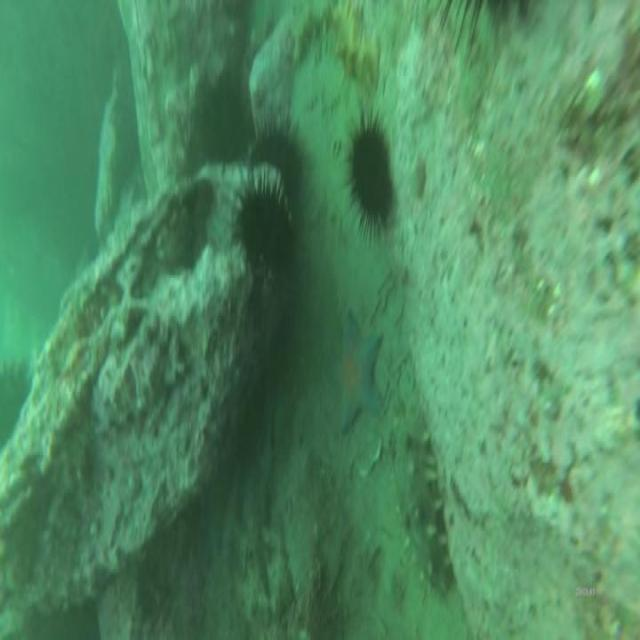echinus: (238, 190, 292, 266), (351, 126, 393, 218), (203, 95, 249, 163), (252, 122, 303, 182)
holothurian: (393, 419, 453, 596)
starfish: (334, 319, 382, 428)
